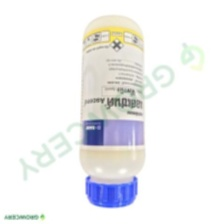insecticide: (78, 12, 148, 211)
